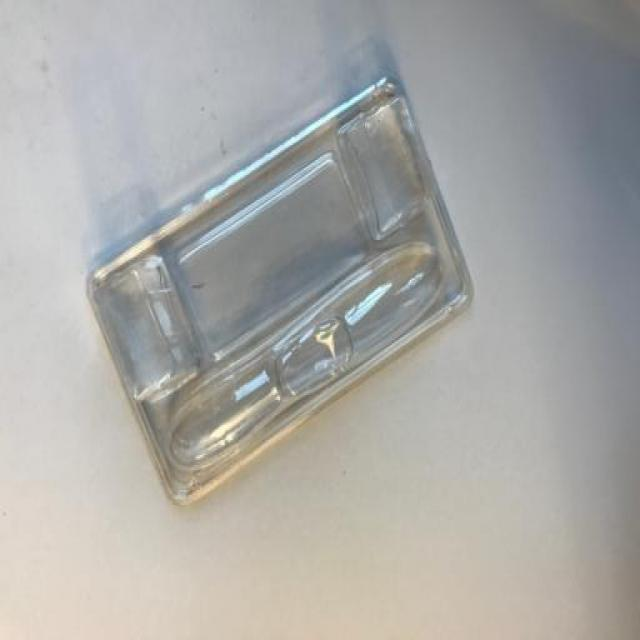Waste: (88, 43, 471, 504)
